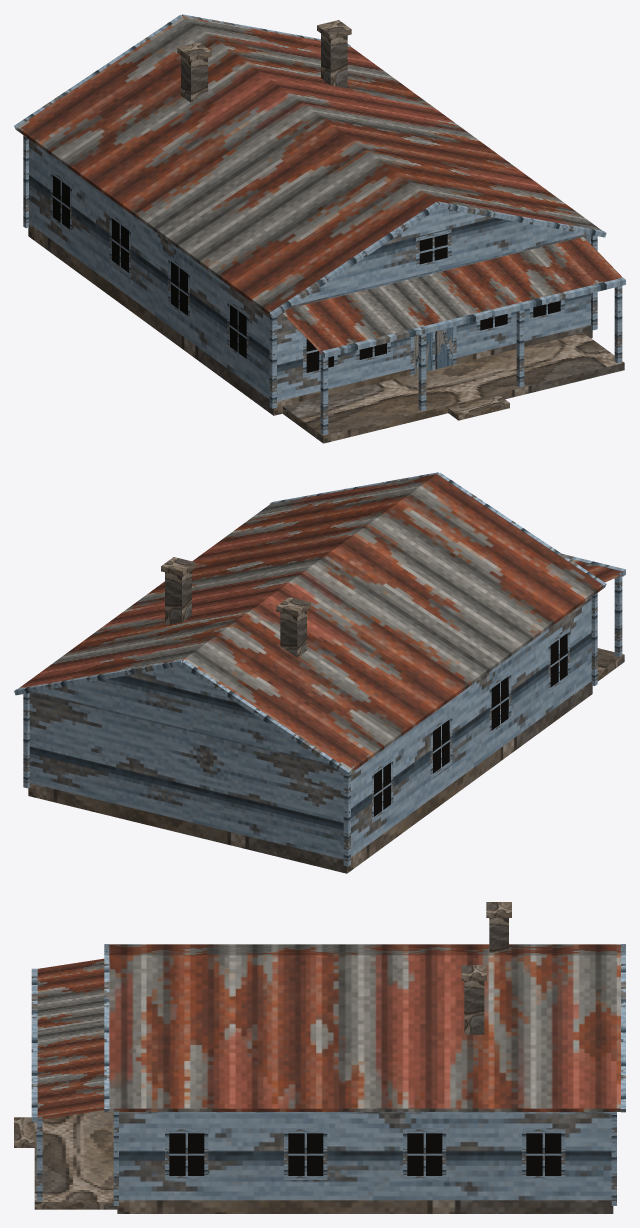
File: Casa_03_Abbandonata_Azzurro.obj
3 renders of one model, top to bottom at view 1: azimuth 30°, elevation 25°; view 2: azimuth 150°, elevation 25°; view 3: azimuth 270°, elevation 25°, orthographic.
Visible parts, largest first — view 1: Casa_03_Abbandonata_Azzurro; view 2: Casa_03_Abbandonata_Azzurro; view 3: Casa_03_Abbandonata_Azzurro.
Boxes of the visible parts, x1,y1,x2,y2 form: Casa_03_Abbandonata_Azzurro: [14, 14, 625, 443]; Casa_03_Abbandonata_Azzurro: [14, 472, 625, 873]; Casa_03_Abbandonata_Azzurro: [14, 902, 625, 1213].
Bounding box in the file's own units: 9.44 × 5.43 × 14.81.
